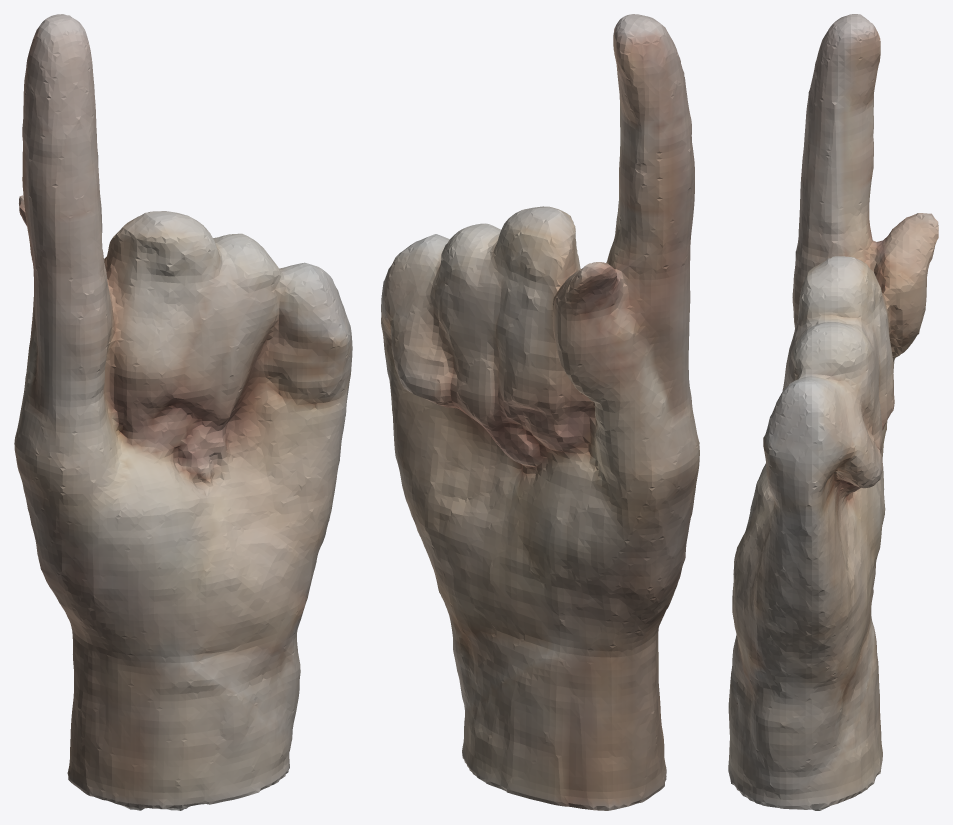
File: ASL1.glb
3 views of the same model, side by side, from view 1: azimuth 30°, elevation 25°; view 2: azimuth 150°, elevation 25°; view 3: azimuth 270°, elevation 25° (orthographic). The views are drawn at different scales.
Parts seen in each view (by area): view 1: world; view 2: world; view 3: world.
Boxes of the visible parts, <box> form: world: <box>14,14,352,810</box>; world: <box>381,14,699,810</box>; world: <box>728,14,938,810</box>.
Size of the model in its own units: 0.8411 by 1.99 by 0.5336.
